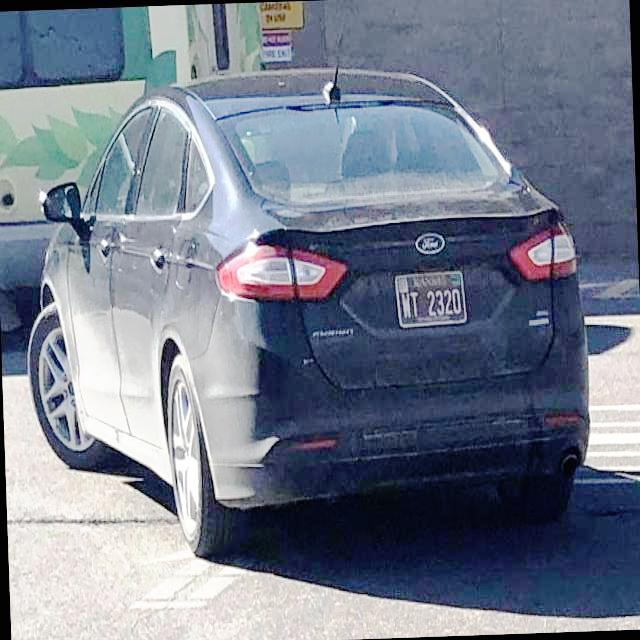license_plate: (394, 269, 471, 330)
